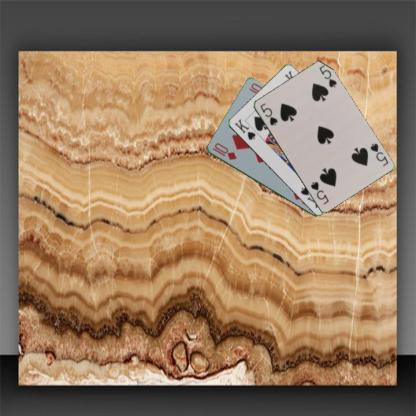10d: (210, 140, 237, 162)
5s: (368, 140, 390, 168), (257, 100, 279, 126)
Ks: (232, 116, 256, 141)
